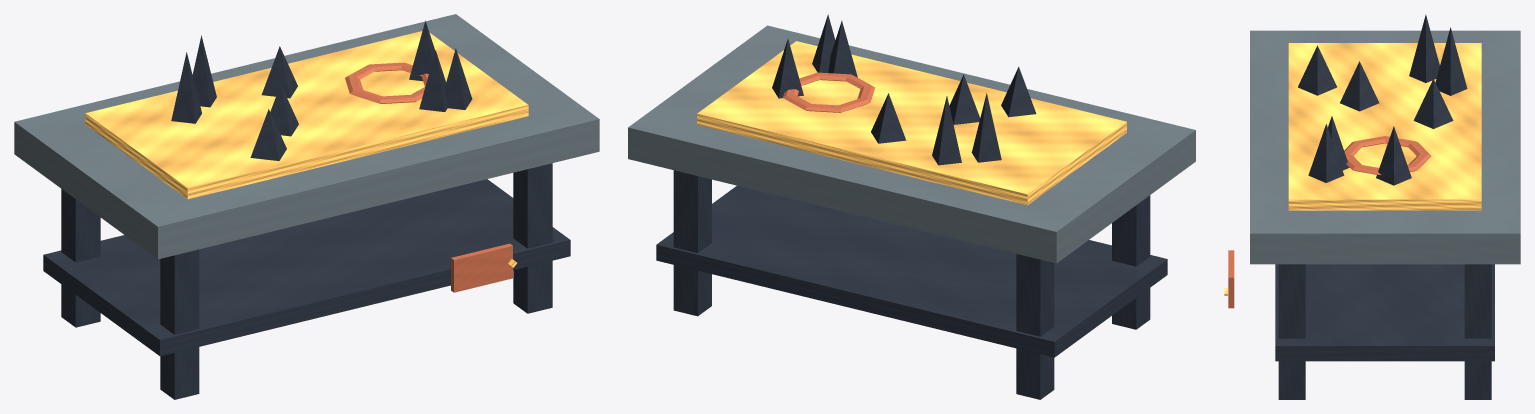
Rendered from atlas100-s024-a02.lod1.glb.
The picture shows the model from 3 angles, left to right: view 1: azimuth 30°, elevation 25°; view 2: azimuth 150°, elevation 25°; view 3: azimuth 270°, elevation 25°; orthographic projection. The views are drawn at different scales.
Parts seen in each view (by area): view 1: atlas100-s024-a02:part-004, atlas100-s024-a02:part-005, atlas100-s024-a02:part-006, atlas100-s024-a02:part-001, atlas100-s024-a02:part-003, atlas100-s024-a02:part-000, atlas100-s024-a02:part-016, atlas100-s024-a02:part-015, atlas100-s024-a02:part-012, atlas100-s024-a02:part-007, atlas100-s024-a02:part-011, atlas100-s024-a02:part-014 (+4 smaller); view 2: atlas100-s024-a02:part-004, atlas100-s024-a02:part-005, atlas100-s024-a02:part-006, atlas100-s024-a02:part-002, atlas100-s024-a02:part-000, atlas100-s024-a02:part-001, atlas100-s024-a02:part-015, atlas100-s024-a02:part-012, atlas100-s024-a02:part-009, atlas100-s024-a02:part-007, atlas100-s024-a02:part-013, atlas100-s024-a02:part-008 (+3 smaller); view 3: atlas100-s024-a02:part-004, atlas100-s024-a02:part-006, atlas100-s024-a02:part-005, atlas100-s024-a02:part-002, atlas100-s024-a02:part-003, atlas100-s024-a02:part-015, atlas100-s024-a02:part-009, atlas100-s024-a02:part-012, atlas100-s024-a02:part-011, atlas100-s024-a02:part-008, atlas100-s024-a02:part-010, atlas100-s024-a02:part-013 (+3 smaller).
Part boxes in pixels (bbox=[...]): atlas100-s024-a02:part-004: bbox=[14, 14, 599, 259]; atlas100-s024-a02:part-005: bbox=[43, 179, 570, 356]; atlas100-s024-a02:part-006: bbox=[85, 31, 528, 199]; atlas100-s024-a02:part-001: bbox=[160, 249, 199, 399]; atlas100-s024-a02:part-003: bbox=[513, 163, 552, 313]; atlas100-s024-a02:part-000: bbox=[61, 189, 100, 327]; atlas100-s024-a02:part-016: bbox=[451, 243, 512, 292]; atlas100-s024-a02:part-015: bbox=[345, 62, 428, 103]; atlas100-s024-a02:part-012: bbox=[171, 52, 201, 123]; atlas100-s024-a02:part-007: bbox=[250, 109, 286, 160]; atlas100-s024-a02:part-011: bbox=[444, 48, 472, 109]; atlas100-s024-a02:part-014: bbox=[419, 50, 447, 111]; atlas100-s024-a02:part-004: bbox=[628, 25, 1195, 263]; atlas100-s024-a02:part-005: bbox=[656, 185, 1167, 357]; atlas100-s024-a02:part-006: bbox=[697, 41, 1126, 205]; atlas100-s024-a02:part-002: bbox=[673, 170, 711, 316]; atlas100-s024-a02:part-000: bbox=[1016, 254, 1054, 399]; atlas100-s024-a02:part-001: bbox=[1112, 195, 1150, 329]; atlas100-s024-a02:part-015: bbox=[783, 72, 875, 112]; atlas100-s024-a02:part-012: bbox=[971, 93, 1001, 162]; atlas100-s024-a02:part-009: bbox=[932, 96, 961, 165]; atlas100-s024-a02:part-007: bbox=[1001, 66, 1036, 117]; atlas100-s024-a02:part-013: bbox=[871, 93, 906, 143]; atlas100-s024-a02:part-008: bbox=[772, 39, 803, 98]; atlas100-s024-a02:part-004: bbox=[1250, 30, 1520, 264]; atlas100-s024-a02:part-006: bbox=[1288, 43, 1481, 210]; atlas100-s024-a02:part-005: bbox=[1275, 264, 1494, 361]; atlas100-s024-a02:part-002: bbox=[1464, 264, 1491, 399]; atlas100-s024-a02:part-003: bbox=[1278, 264, 1305, 399]; atlas100-s024-a02:part-015: bbox=[1344, 136, 1431, 175]; atlas100-s024-a02:part-009: bbox=[1435, 27, 1467, 95]; atlas100-s024-a02:part-012: bbox=[1409, 14, 1439, 82]; atlas100-s024-a02:part-011: bbox=[1308, 124, 1344, 182]; atlas100-s024-a02:part-008: bbox=[1376, 126, 1411, 185]; atlas100-s024-a02:part-010: bbox=[1340, 61, 1379, 111]; atlas100-s024-a02:part-013: bbox=[1413, 79, 1453, 128].
Bounding box in the file's own units: 2.84 × 1.65 × 1.75.
Materials: 4 (4 with a texture image).
